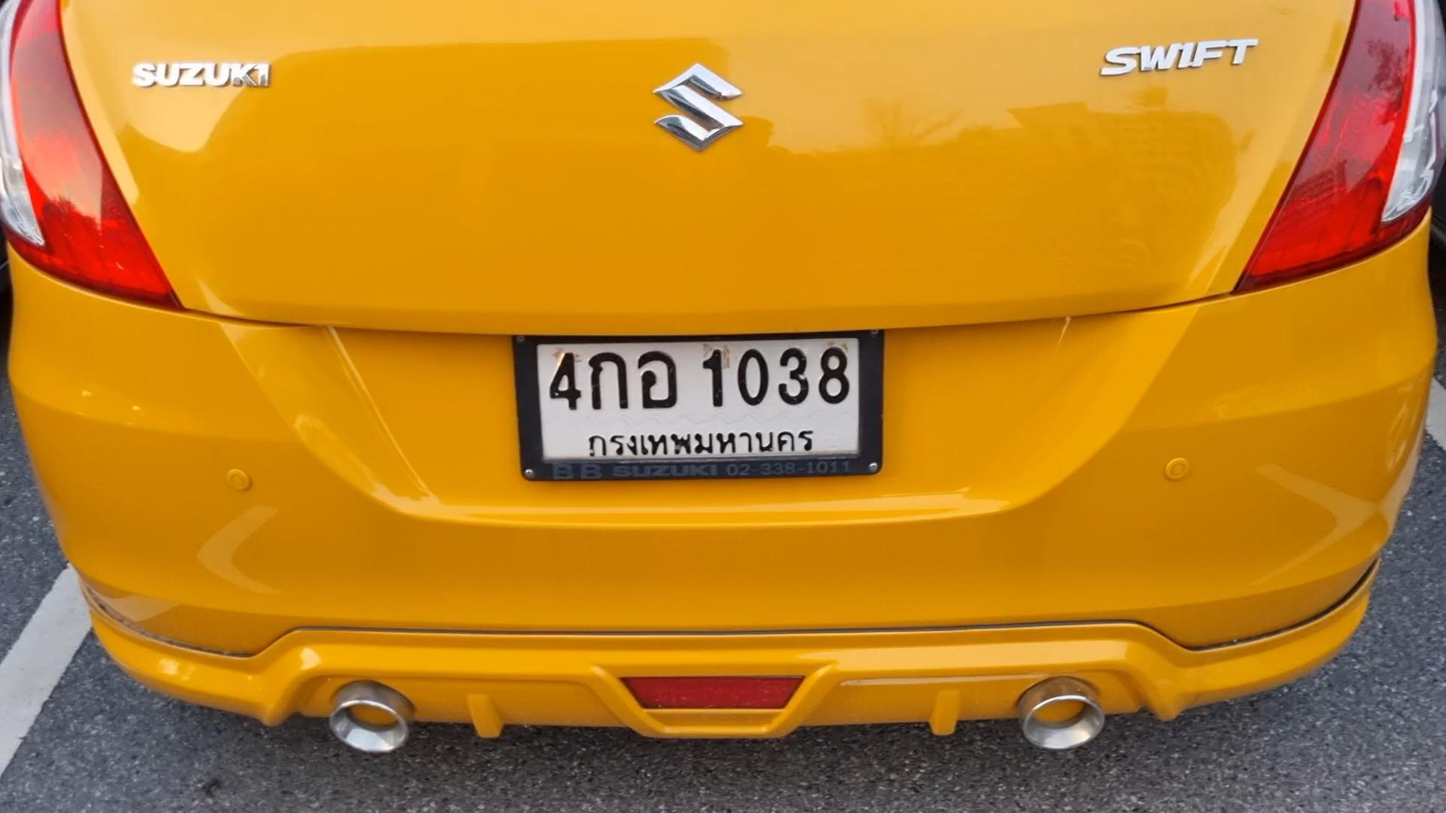license-plate: (510, 324, 889, 479)
